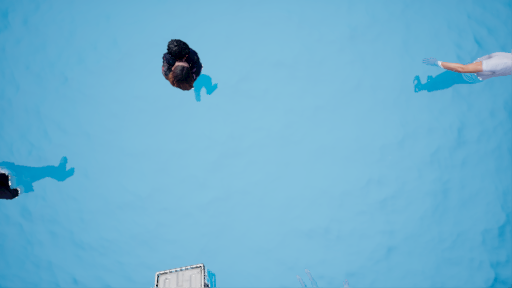person: (406, 43, 508, 103), (152, 37, 219, 105)
